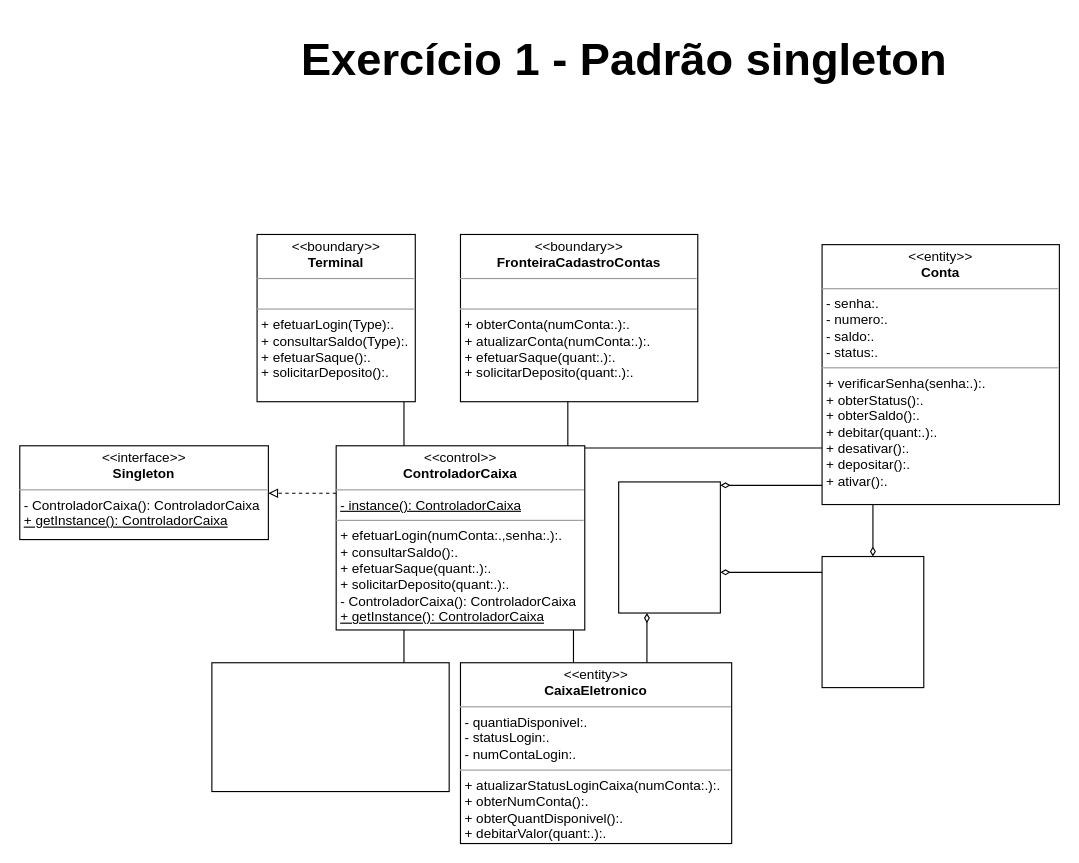
Some shapes in this 1079 by 863 pixel diagram are drawn without their labels. The box of each missing label's shape, as (x1, y1, x2, y2) in pixels:
<< boundary >> FronteiraDispensadorNotas + liberarQuantia(quant:.):.: (211, 662, 449, 792)
<< entity >> Banco - cod:. - nome:.: (618, 481, 720, 613)
<< entity >> FichaCliente - nome:. - RG:. - CPF:.: (821, 555, 924, 688)
